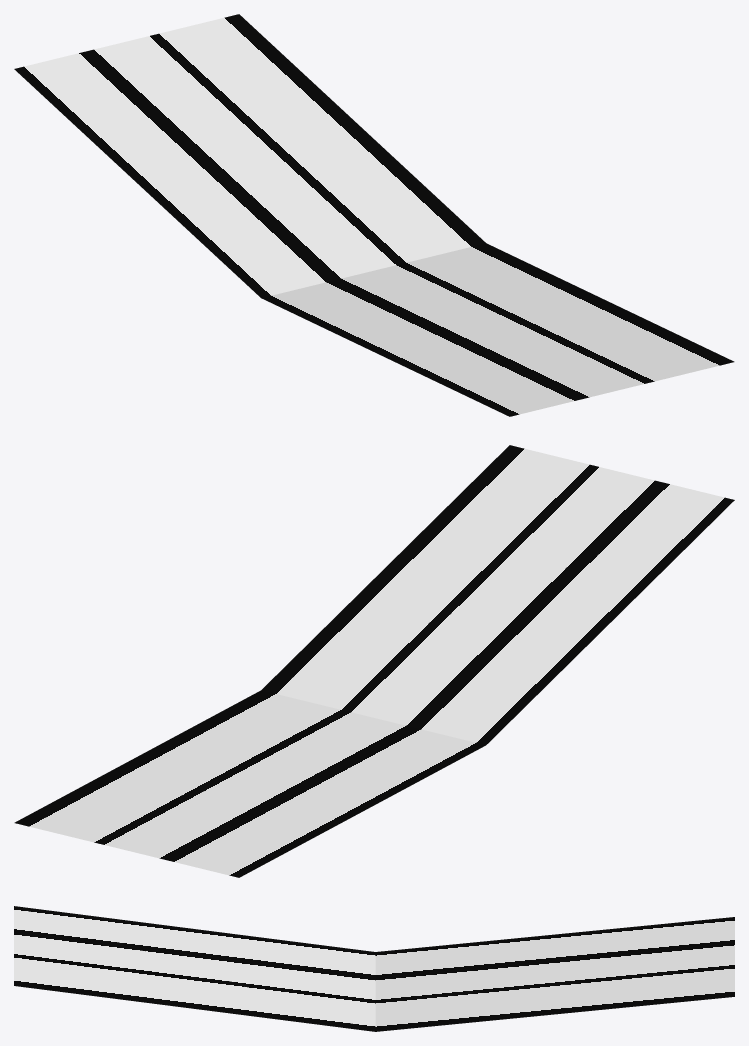
File: Kabel_Lichtleitung_x2_2601.glb
3 renders of one model, top to bottom at view 1: azimuth 30°, elevation 25°; view 2: azimuth 150°, elevation 25°; view 3: azimuth 270°, elevation 25°, orthographic. The views are drawn at different scales.
Parts seen in each view (by area): view 1: pPlaneShape111; view 2: pPlaneShape111; view 3: pPlaneShape111.
Boxes of the visible parts, x1,y1,x2,y2 form: pPlaneShape111: (14,14,734,416); pPlaneShape111: (14,445,734,877); pPlaneShape111: (14,906,734,1031).
Size of the model in its own units: 0.132 by 0.0354 by 0.5032.
1 material, 1 textured.
